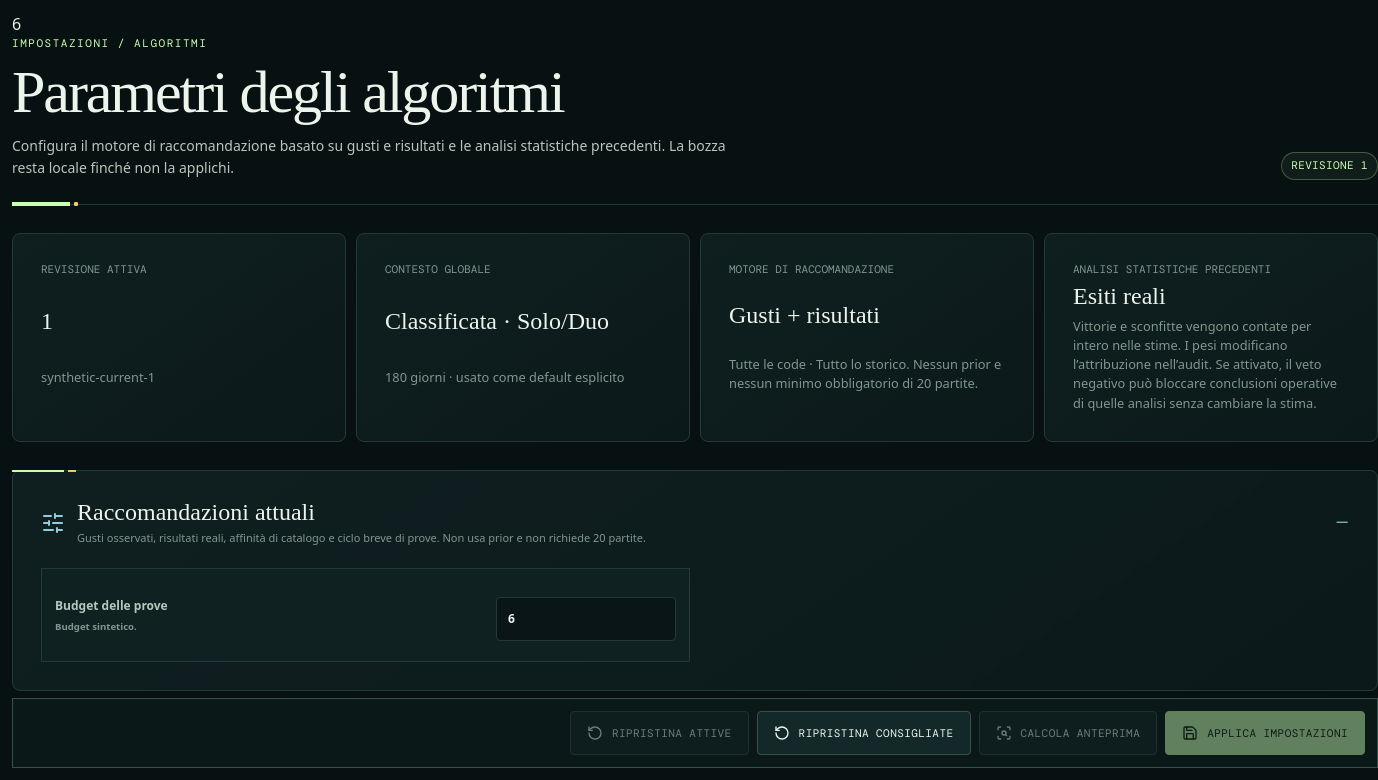
impostazioni: risposte incomplete e recupero esplicito › rifiuta PUT200 vuoto senza alterare bozza, revisione o provider
The image size is (1378, 780).
Replace the text in the number field labelled "Budget delle prove" with "4". click: (586, 619)
box: x1=496 y1=597 x2=676 y2=641
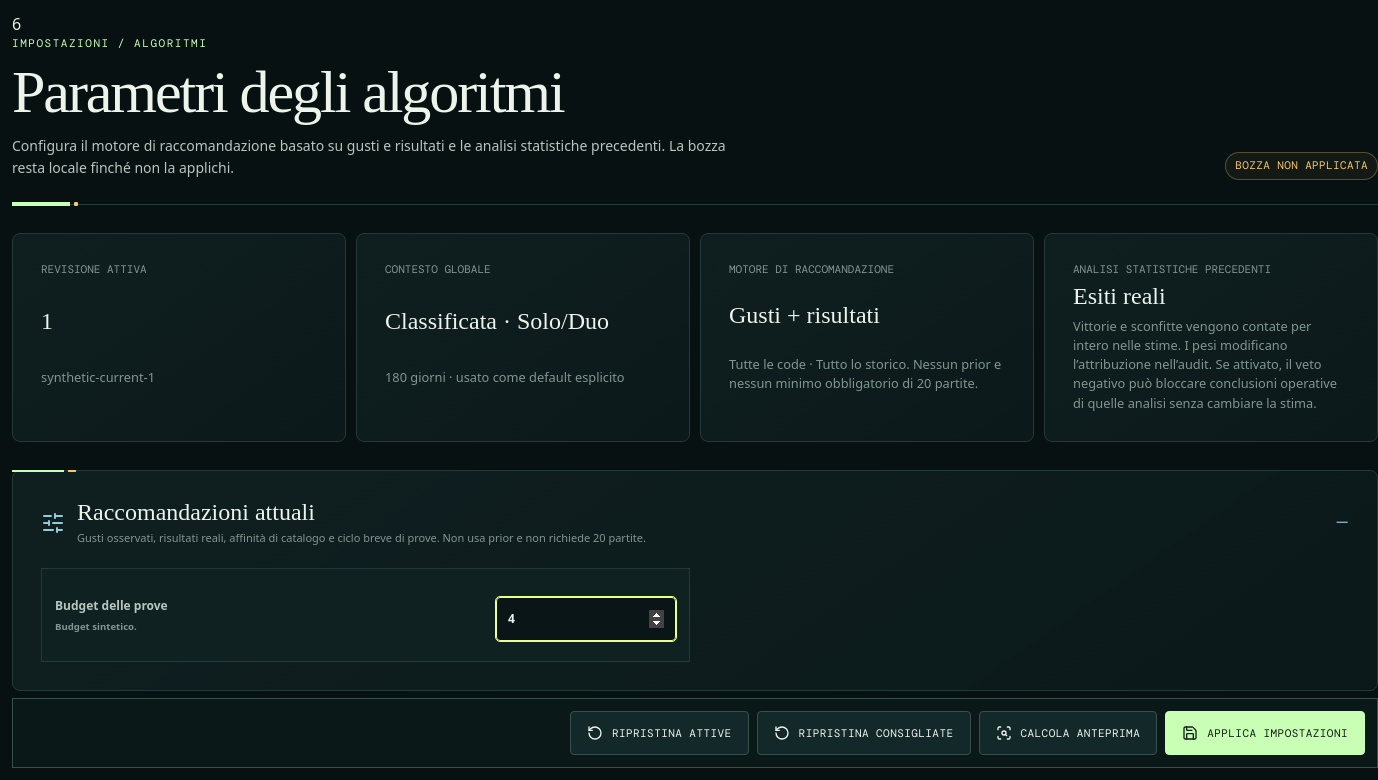
Click the button "Applica impostazioni". click: (1265, 733)
box: x1=1165 y1=711 x2=1365 y2=755
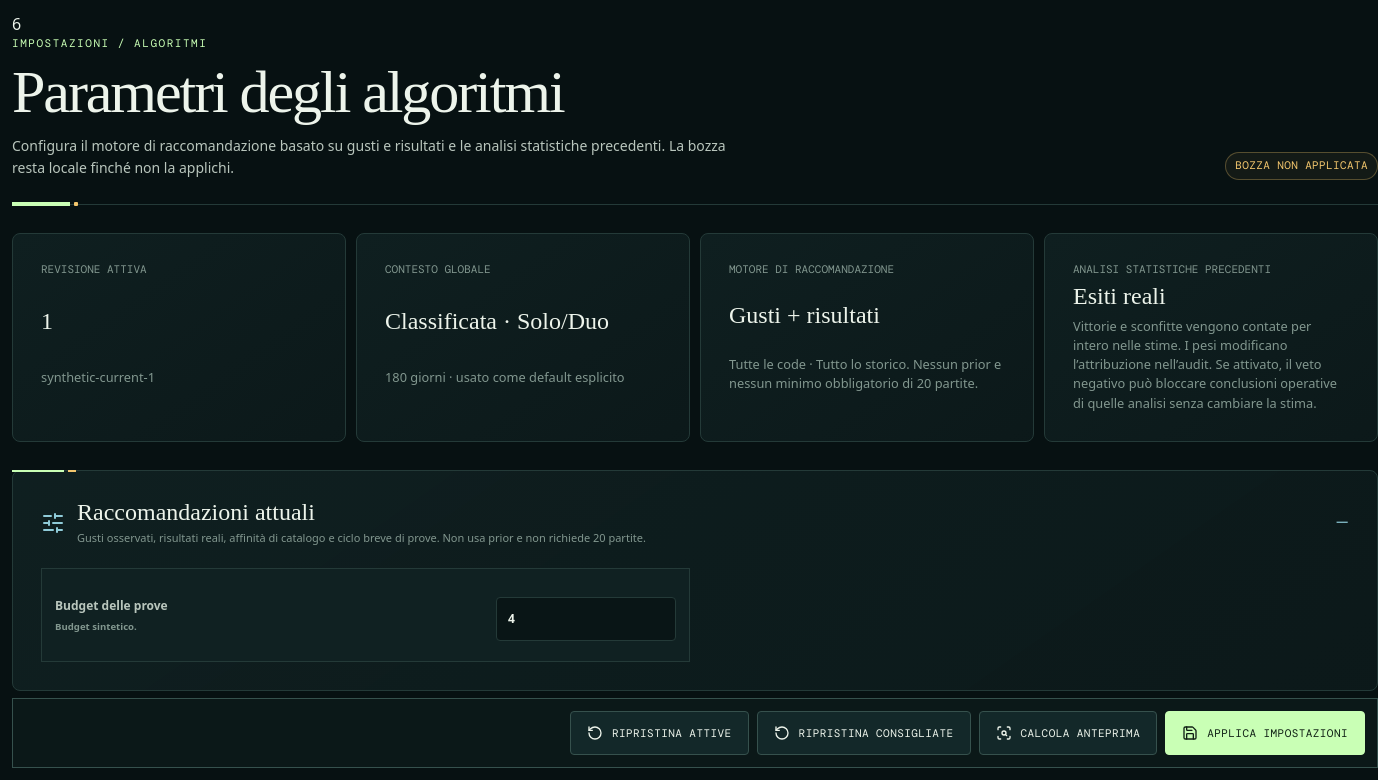
Expected: the number field labelled "Budget delle prove" is enabled, x1=496 y1=597 x2=676 y2=641
Expected: the text "Bozza non applicata" is shown, x1=1225 y1=152 x2=1377 y2=180
Expected: the button "Applica impostazioni" is enabled
Click the button "Applica impostazioni". click: (1265, 733)
box: x1=1165 y1=711 x2=1365 y2=755
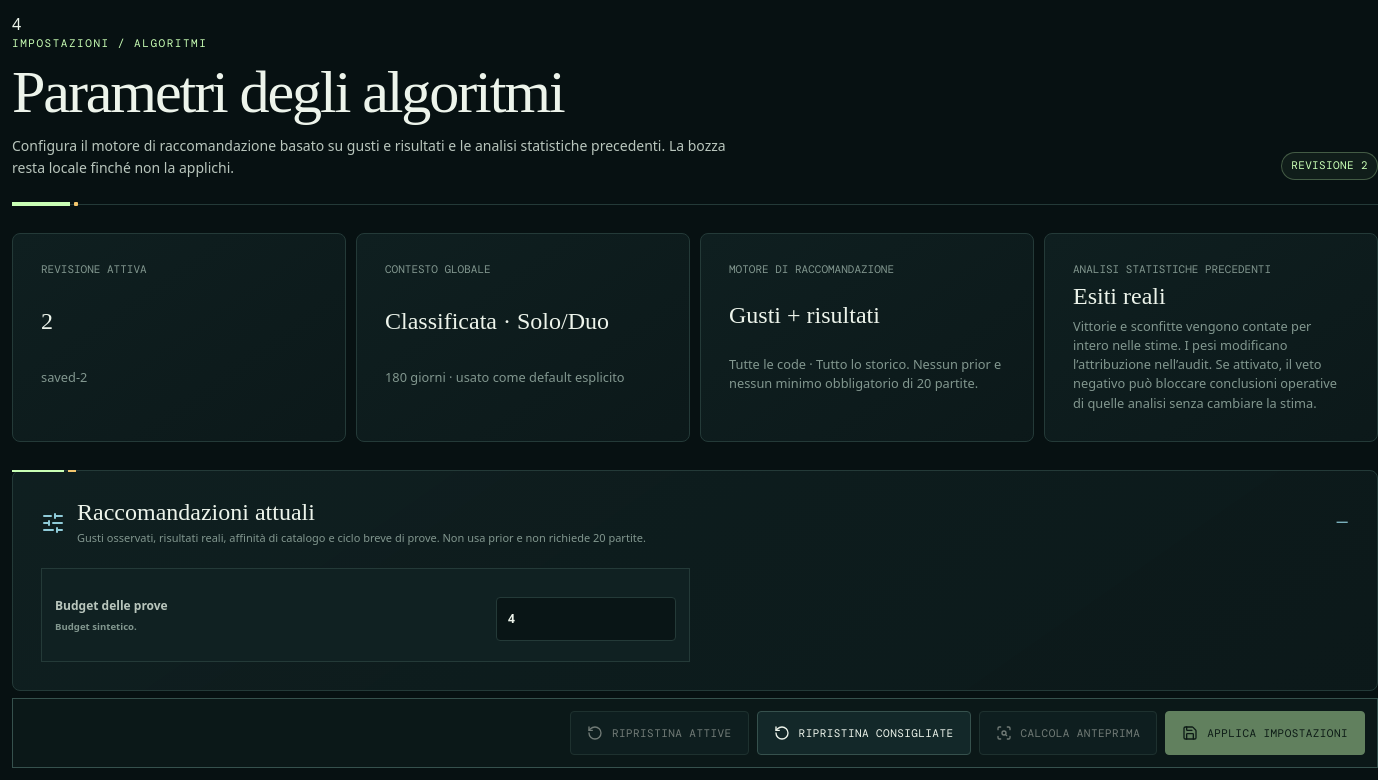
Expected: the text with test id "provider-budget" reads "4", x1=12 y1=13 x2=21 y2=35
Expected: the button "Applica impostazioni" is disabled, x1=1165 y1=711 x2=1365 y2=755
